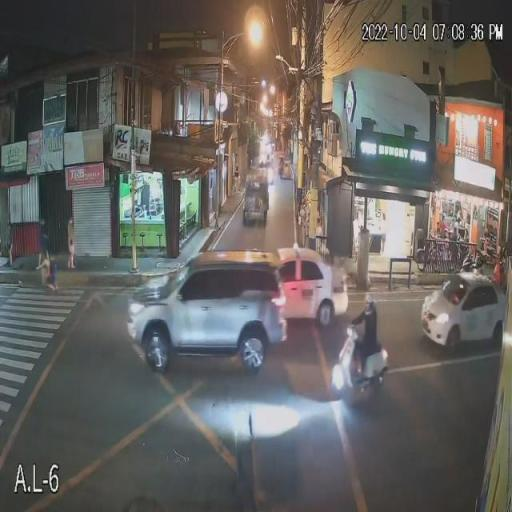helmet: (362, 291, 378, 318)
motorcycle: (330, 339, 392, 398)
rider: (355, 307, 382, 375)
